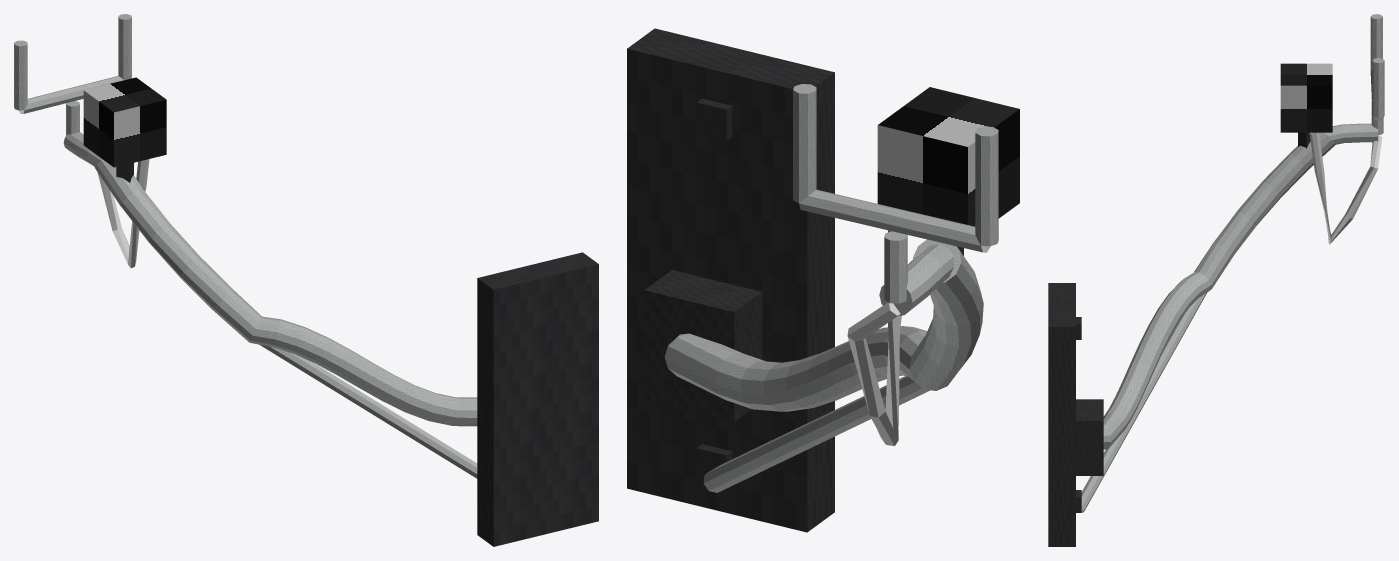
File: arm_1_left_flood_up_wired.obj
3 renders of one model, left to right at view 1: azimuth 30°, elevation 25°; view 2: azimuth 150°, elevation 25°; view 3: azimuth 270°, elevation 25°, orthographic. The views are drawn at different scales.
Visible parts, largest first — view 1: pole_light_mount_1_left_flood_up_wired; view 2: pole_light_mount_1_left_flood_up_wired; view 3: pole_light_mount_1_left_flood_up_wired.
Boxes of the visible parts, x1,y1,x2,y2 form: pole_light_mount_1_left_flood_up_wired: (14, 14, 598, 546); pole_light_mount_1_left_flood_up_wired: (627, 28, 1019, 532); pole_light_mount_1_left_flood_up_wired: (1048, 14, 1384, 546).
Size of the model in its own units: 1.4 by 1.47 by 1.21.
